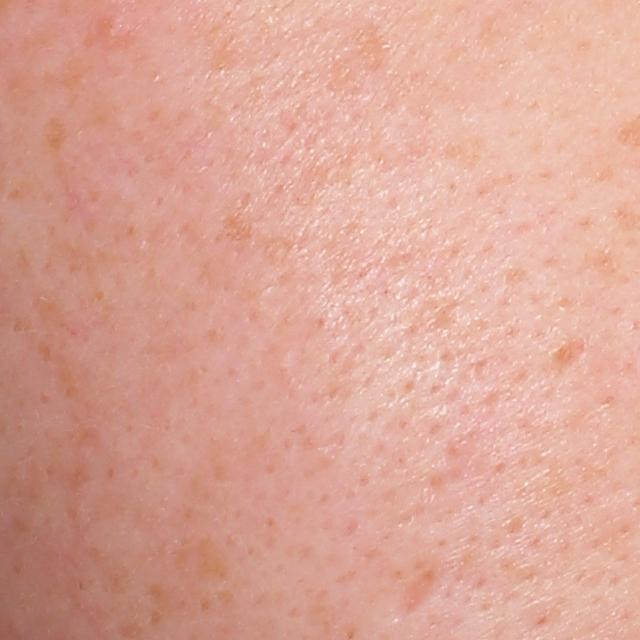atrophic_scar: (402, 567, 439, 612)
